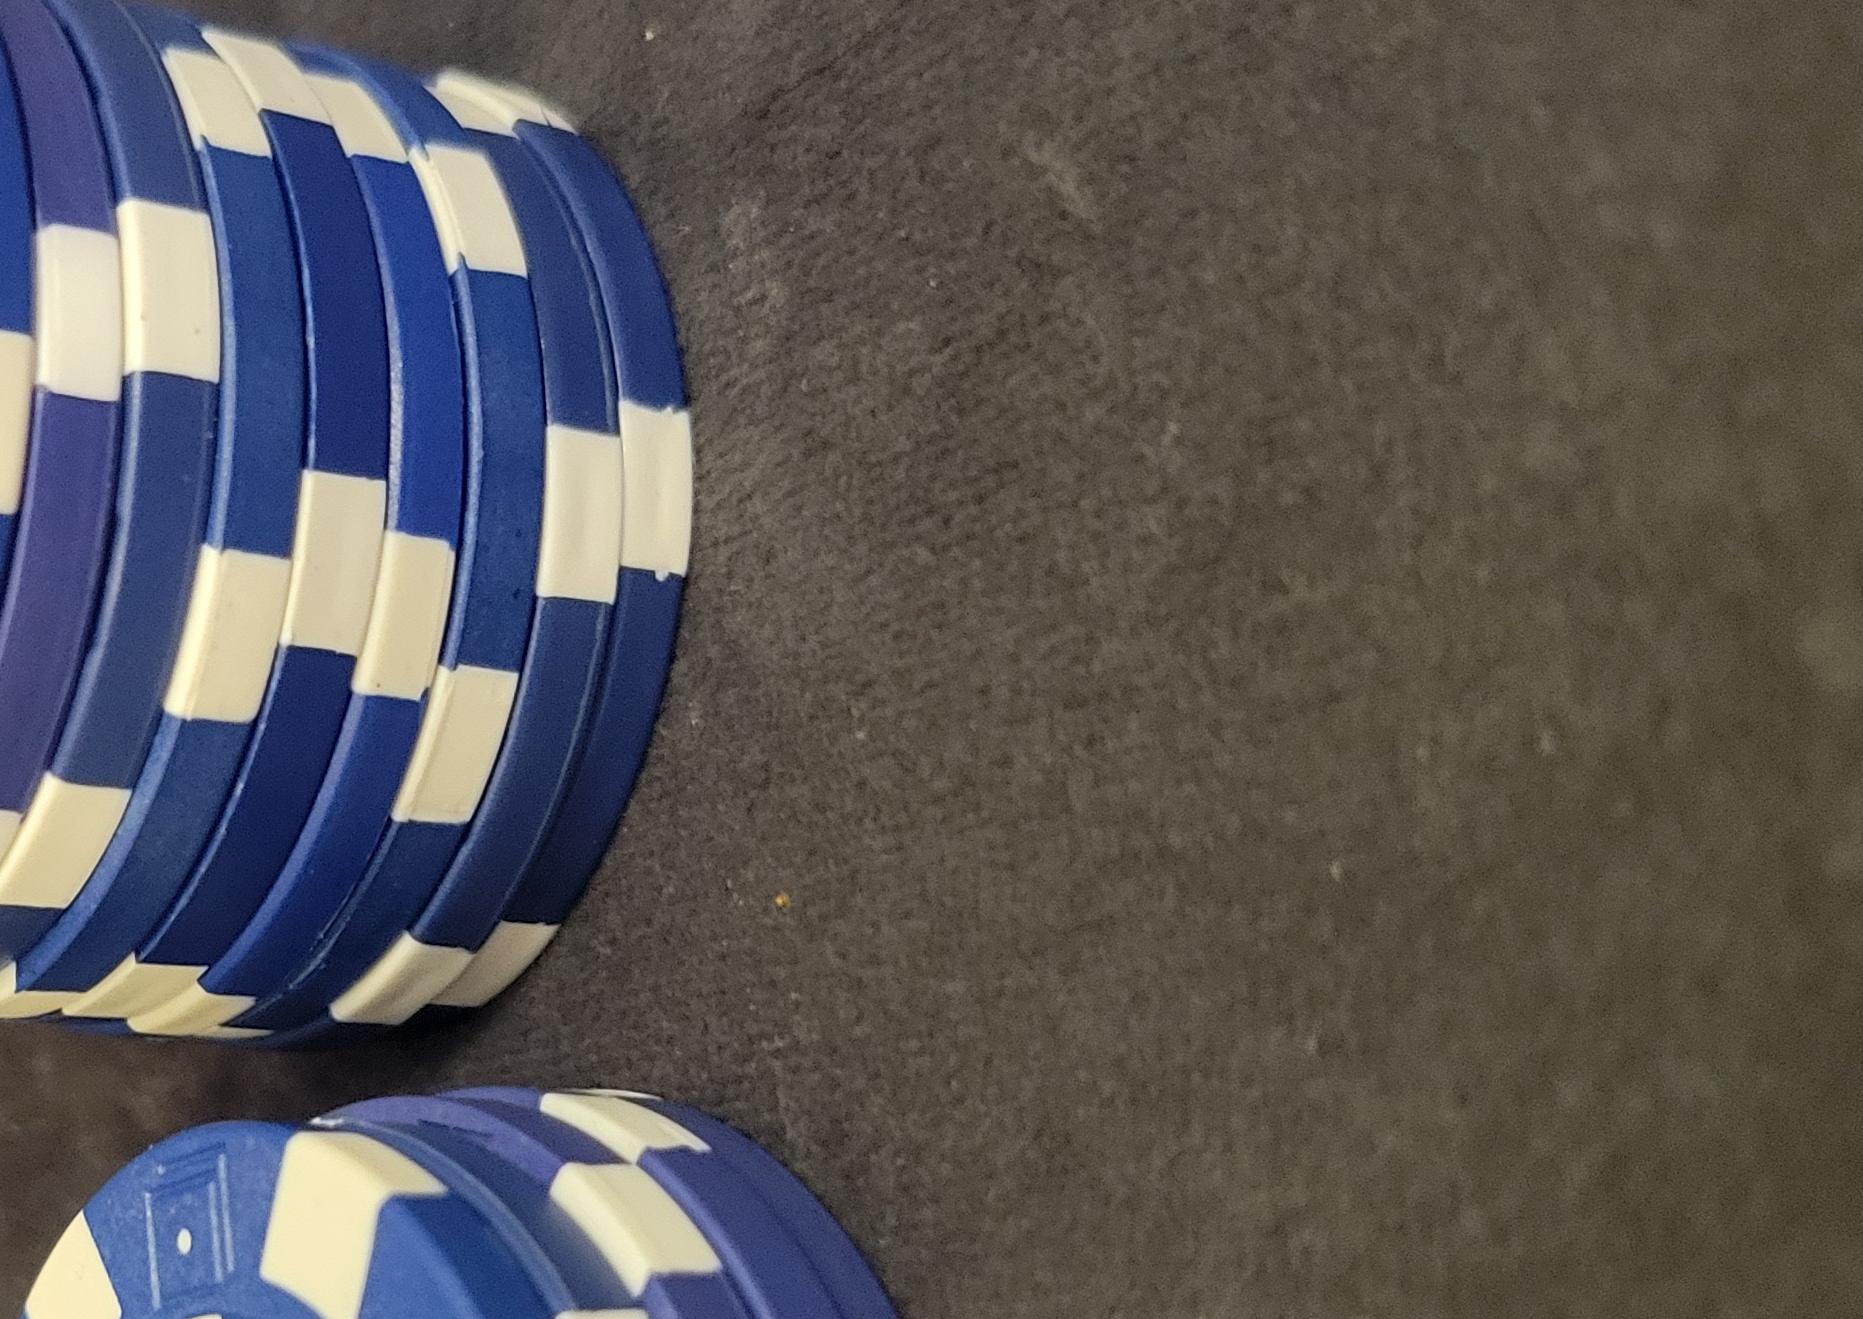Chip: (1, 191, 954, 1319)
